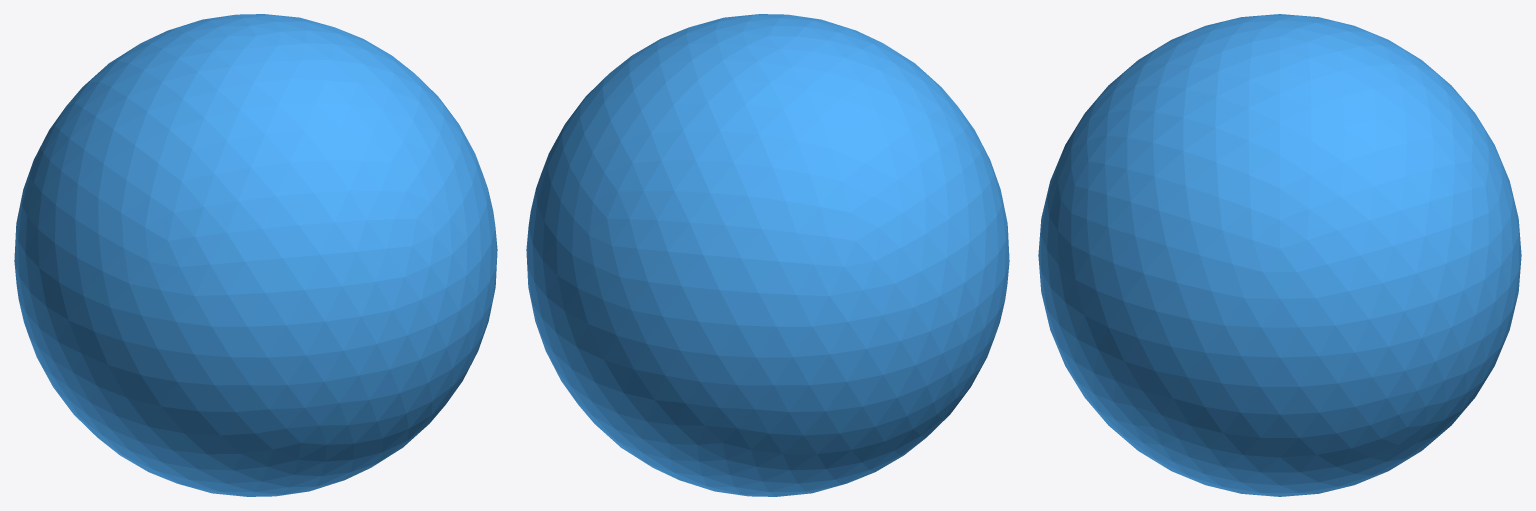
File: sky.dae
3 views of the same model, side by side, from view 1: azimuth 30°, elevation 25°; view 2: azimuth 150°, elevation 25°; view 3: azimuth 270°, elevation 25° (orthographic).
Visible parts, largest first — view 1: sky; view 2: sky; view 3: sky.
Boxes of the visible parts, x1=… form: sky: x1=14, y1=14, x2=497, y2=496; sky: x1=526, y1=14, x2=1009, y2=496; sky: x1=1038, y1=14, x2=1521, y2=496.
Bounding box in the file's own units: 2 × 2 × 2.
1 material, 1 textured.
